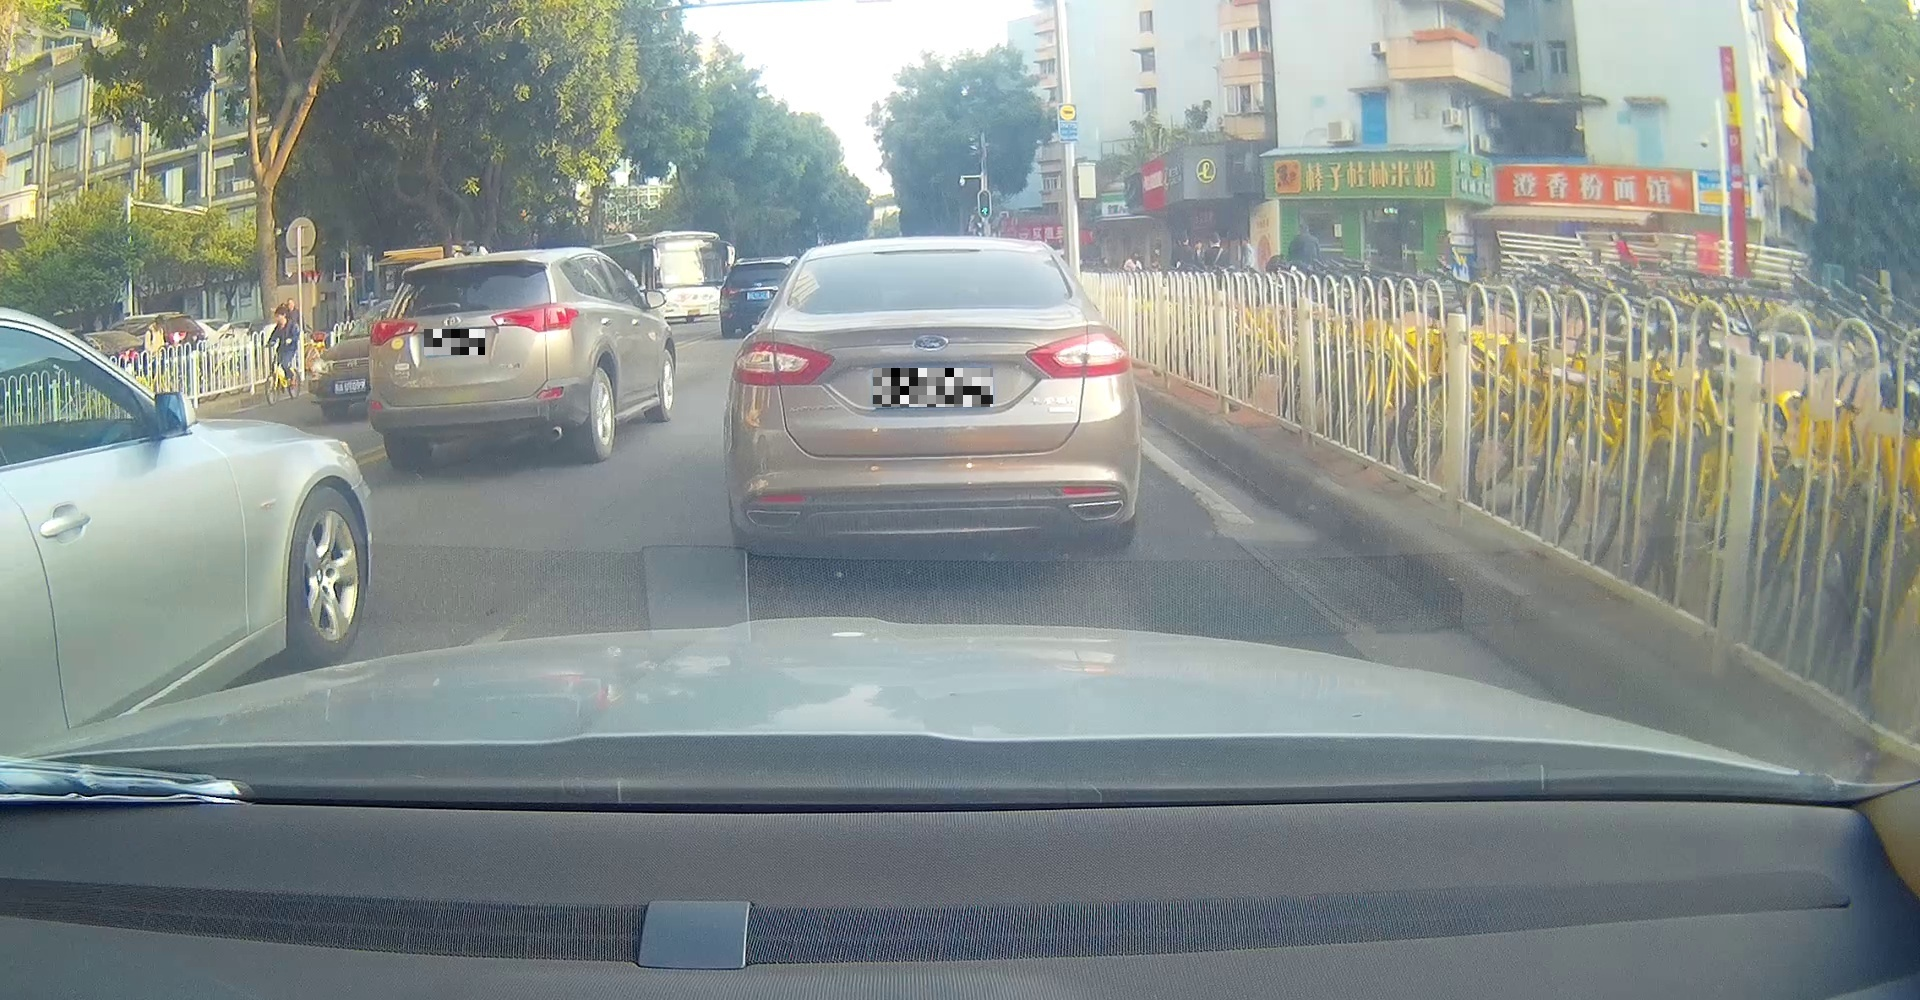L_light: (730, 341, 833, 385), (370, 319, 417, 345)
R_light: (1025, 330, 1131, 379), (490, 303, 580, 332)
T_light: (910, 253, 977, 261), (443, 269, 472, 275)
day-no: (723, 237, 1140, 565), (367, 250, 582, 471)
plate_1: (872, 368, 993, 407), (424, 329, 485, 355)
